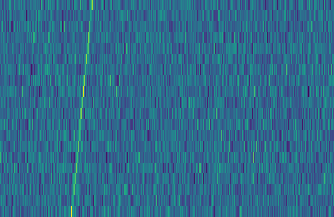signal: (65, 0, 95, 217)
